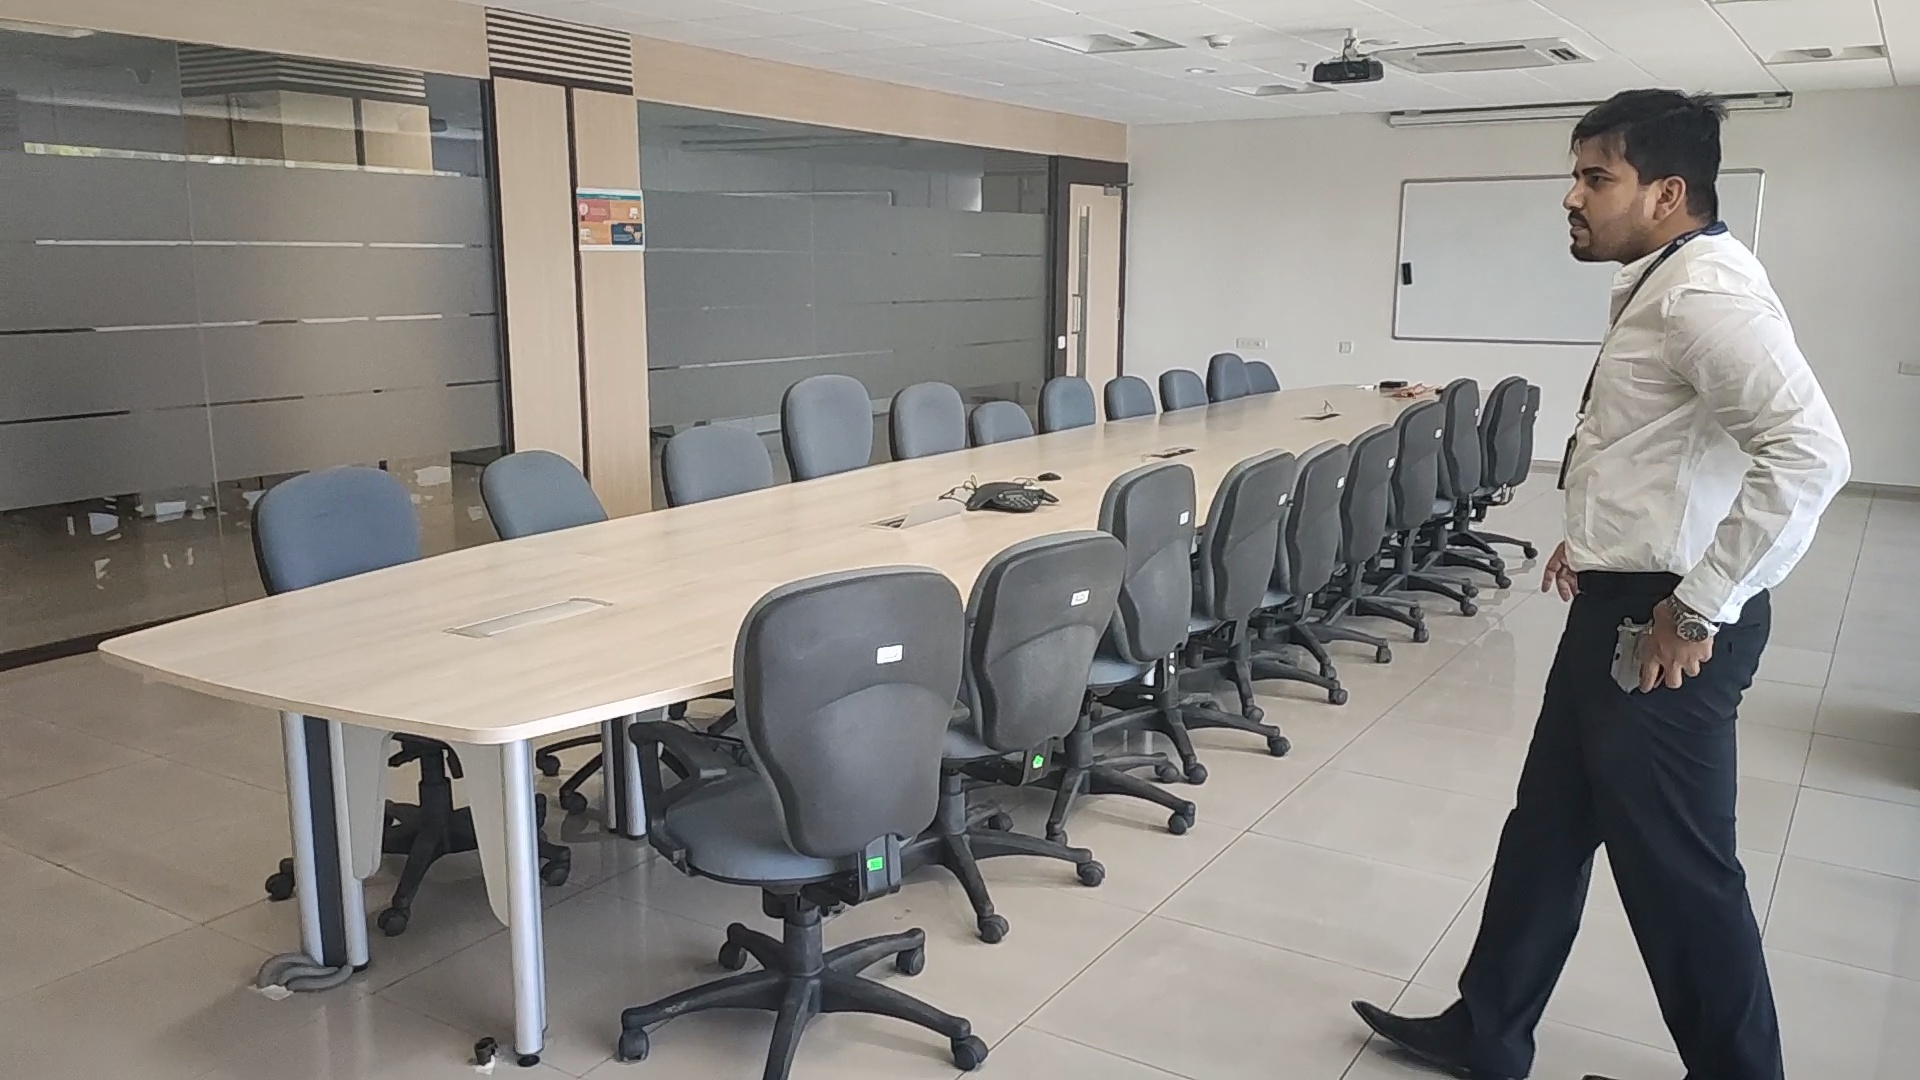gun: (1606, 616, 1652, 692)
